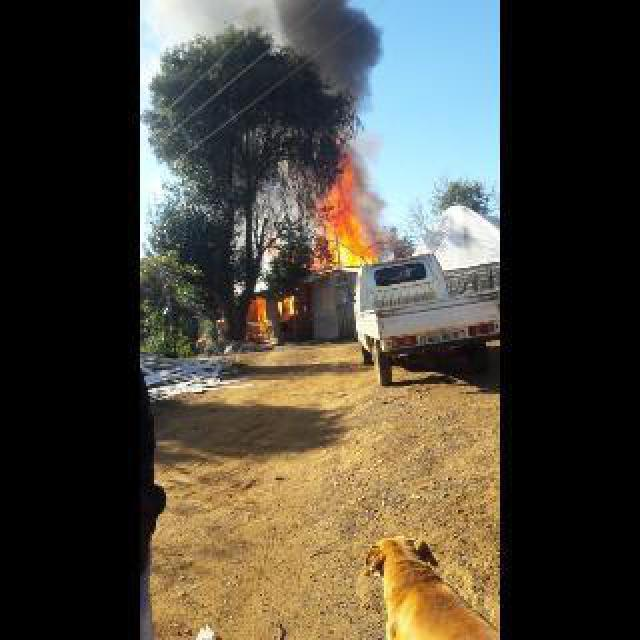Fire: (316, 150, 386, 268), (260, 302, 272, 332)
Smoke: (340, 6, 388, 182)
